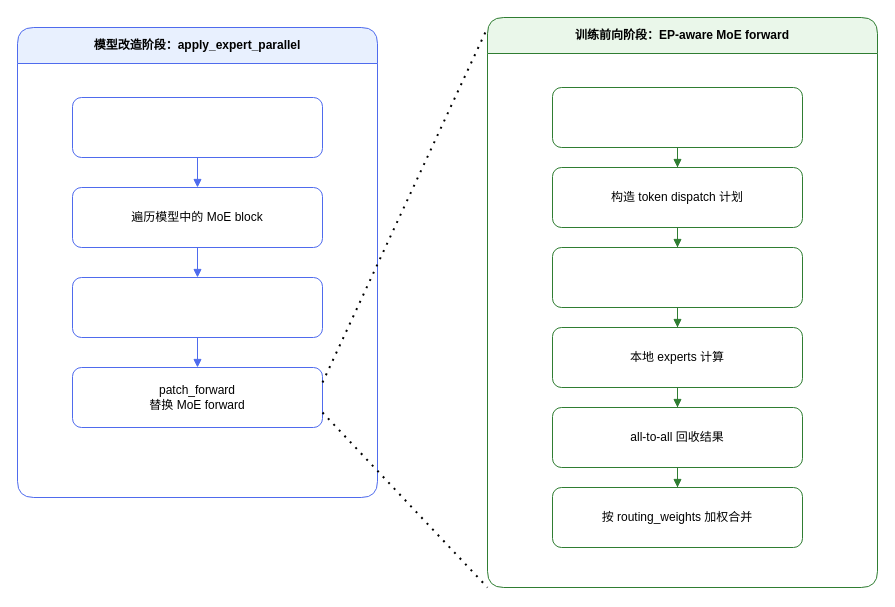
The diagram is 895 pixels wide and 607 high, and some of its shapes have lost their labels. The centre of each missing label's shape, as x and y in pixels:
all-to-all 分发 token: [677,277]
Router 计算 selected_experts + routing_weights: [677,117]
shard_experts 按 ep_rank 切分专家参数: [197,307]
获取 EP 通信上下文 ep_group + ep_rank: [197,127]
